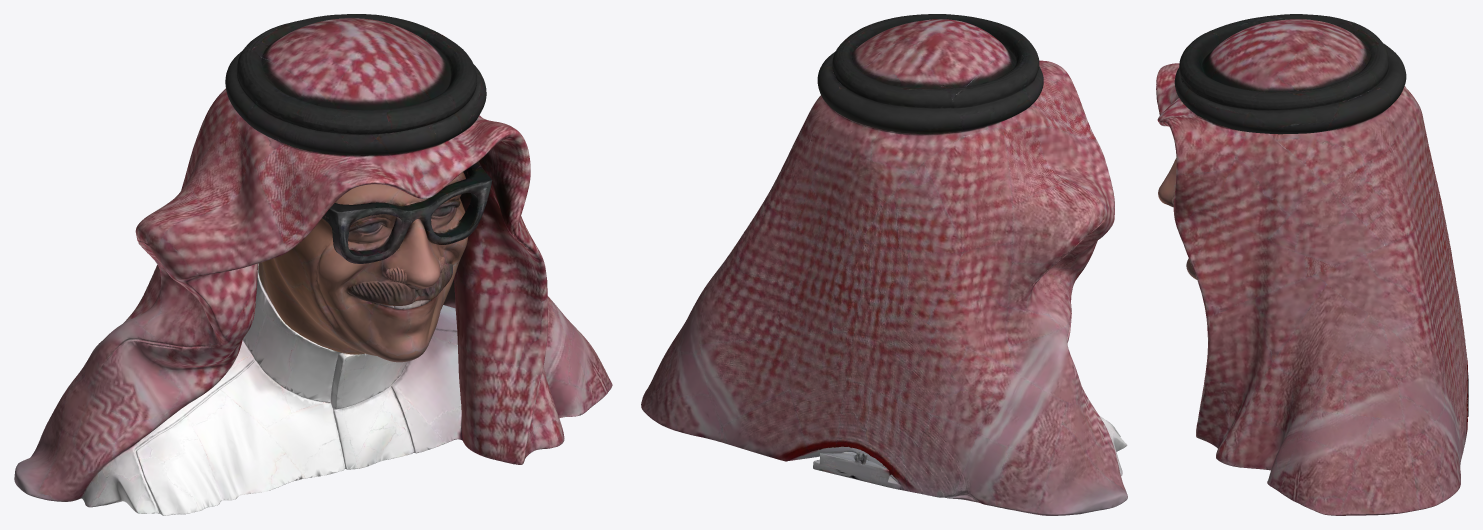
The model's file is Sager-Ab3ad3d.preview-v1.glb.
3 renders of one model, left to right at view 1: azimuth 30°, elevation 25°; view 2: azimuth 150°, elevation 25°; view 3: azimuth 270°, elevation 25°, orthographic. The views are drawn at different scales.
Parts seen in each view (by area): view 1: tmp2oypf9ynobj; view 2: tmp2oypf9ynobj; view 3: tmp2oypf9ynobj.
Part boxes in pixels (x1=…): tmp2oypf9ynobj: x1=14, y1=14, x2=612, y2=515; tmp2oypf9ynobj: x1=641, y1=14, x2=1127, y2=515; tmp2oypf9ynobj: x1=1156, y1=14, x2=1468, y2=515.
Size of the model in its own units: 1 by 0.76 by 0.5735.
Materials: 1 (1 with a texture image).
